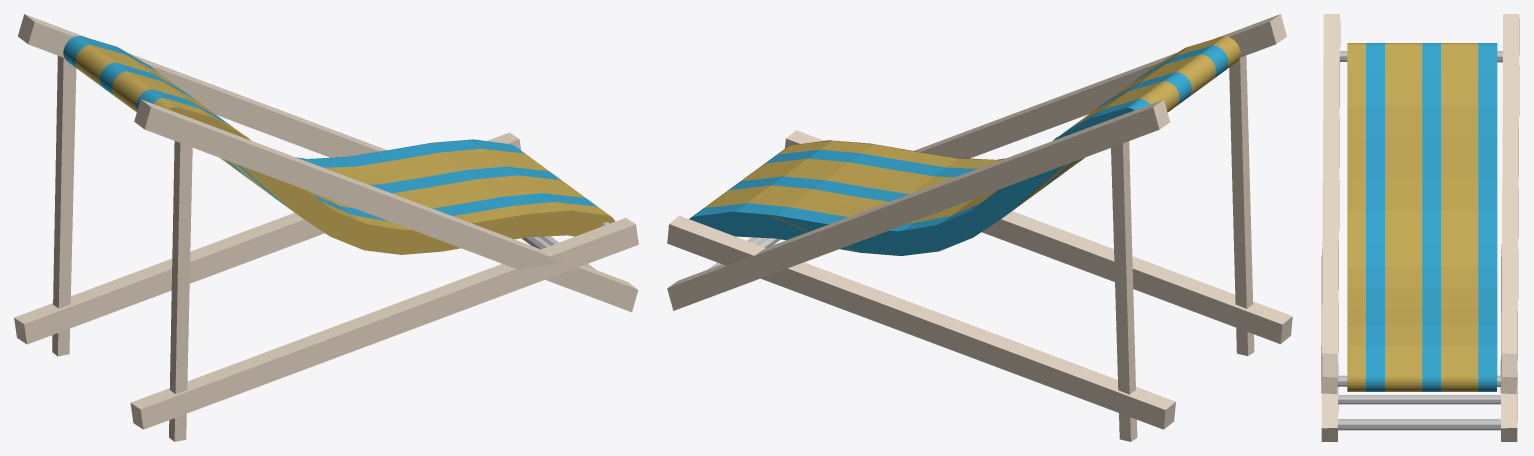
Rendered from Cadeira2.fbx.
The picture shows the model from 3 angles, left to right: view 1: azimuth 30°, elevation 25°; view 2: azimuth 150°, elevation 25°; view 3: azimuth 270°, elevation 25°; orthographic projection. The views are drawn at different scales.
Parts seen in each view (by area): view 1: Cylinder.003; view 2: Cylinder.003; view 3: Cylinder.003.
Part boxes in pixels (x1,y1,x2,y2): Cylinder.003: (14, 14, 638, 441); Cylinder.003: (667, 14, 1292, 441); Cylinder.003: (1321, 14, 1519, 441).
Bounding box in the file's own units: 488 × 321 × 219.
